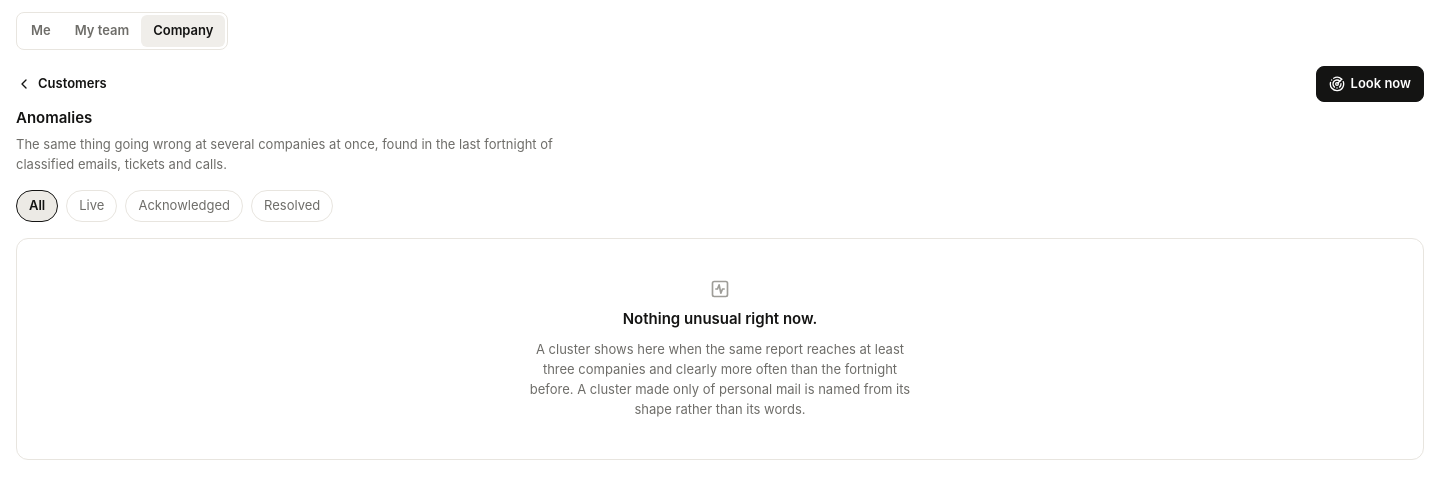
Test: AnomaliesPage › looks now and says what it found
This screenshot has width=1440, height=477.
Check: the text "Nothing unusual right now." is shown, box [623,307,817,331]
What coordinates should you click on to do the following:
click the button "Look now"
I would click on:
 (1370, 84)
Its box is [1316,66,1424,102].
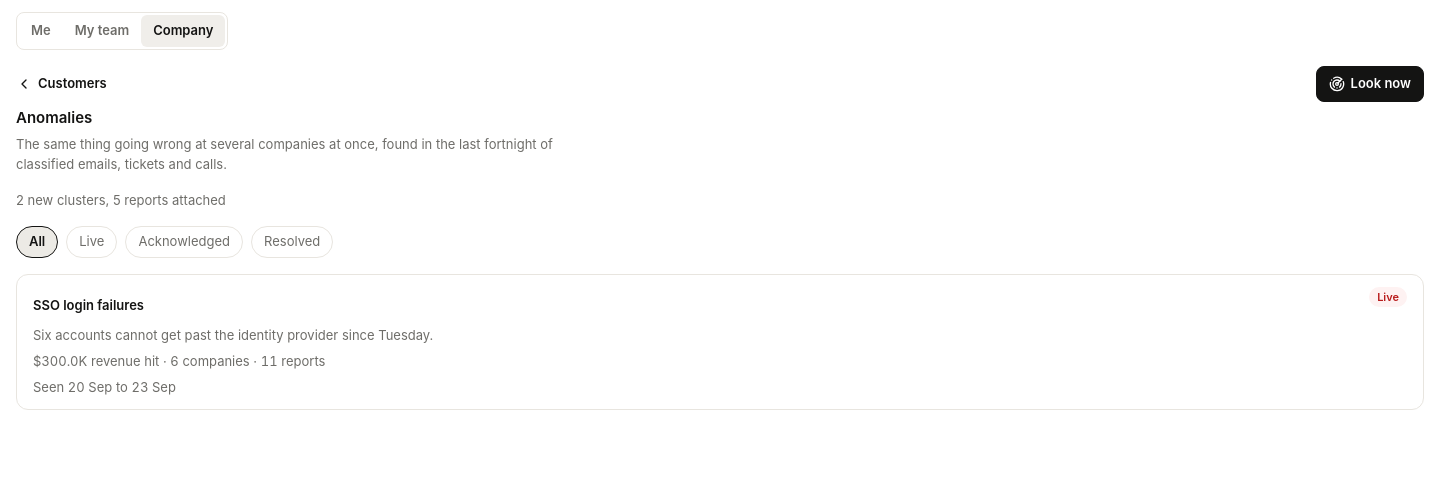
Check: the message "2 new clusters, 5 reports attached" is shown, box [16,192,226,208]
Check: the button "SSO login failures" is shown, box [33,287,433,323]
